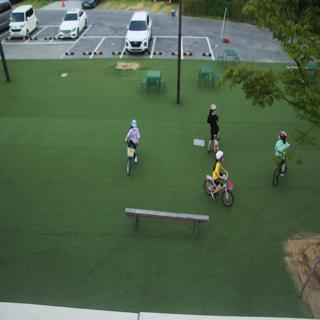person: (119, 104, 146, 186), (204, 145, 238, 195), (204, 99, 227, 160), (273, 124, 291, 199)
